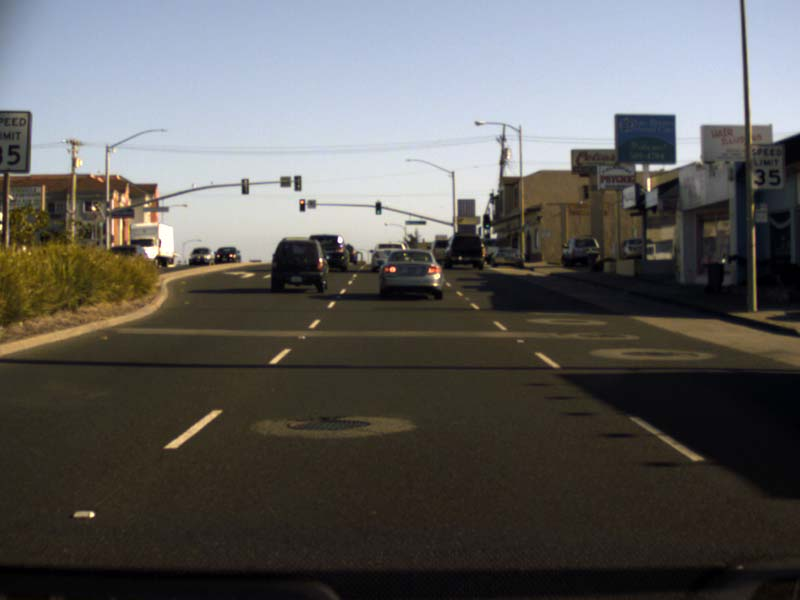Green: (374, 201, 381, 214), (483, 214, 489, 228)
Red: (299, 198, 305, 212)
